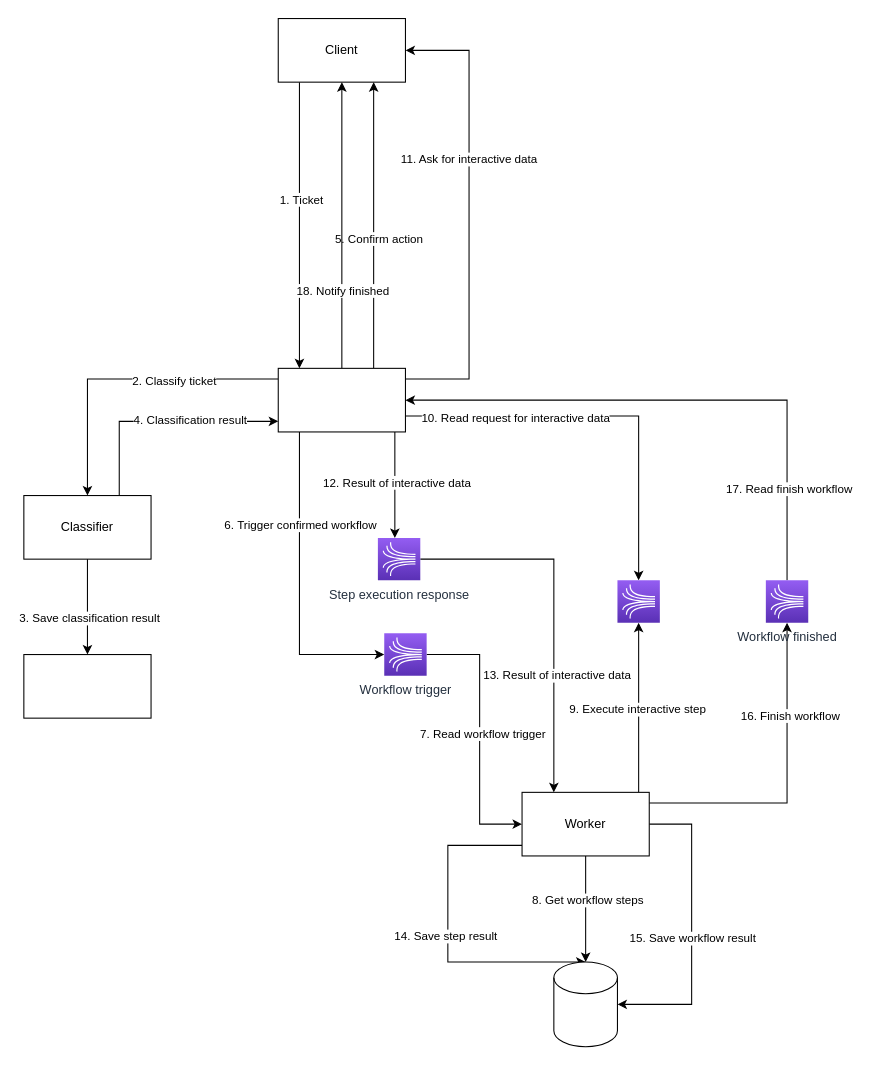
Image size: 870x1065. Some labels were removed from this diagram. Each missing label, with the centre of its shape:
"Admin" belongs at point 87,685.
"AI Bot" belongs at point 341,399.
"Step execution request" belongs at point 638,601.
